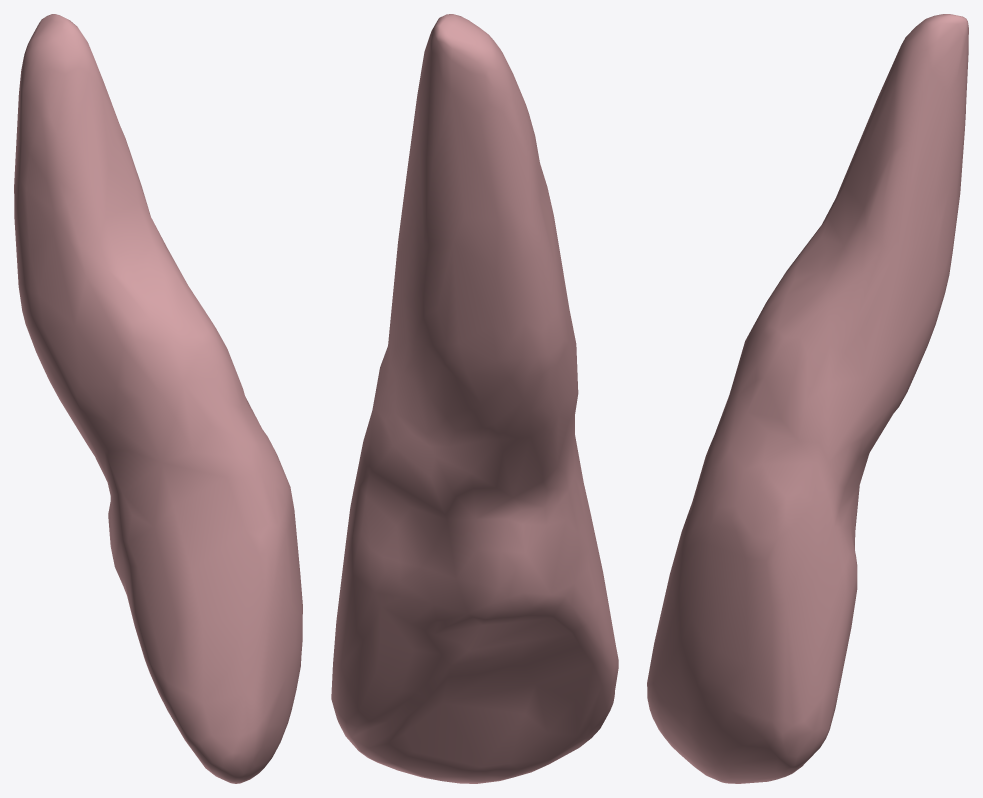
Rendered from fma55683_fj1266.glb.
The picture shows the model from 3 angles, left to right: view 1: azimuth 30°, elevation 25°; view 2: azimuth 150°, elevation 25°; view 3: azimuth 270°, elevation 25°; orthographic projection. The views are drawn at different scales.
Parts seen in each view (by area): view 1: FMA55683_FJ1266; view 2: FMA55683_FJ1266; view 3: FMA55683_FJ1266.
Boxes of the visible parts, box(x1,y1,x2,y2) form: FMA55683_FJ1266: box(14, 14, 302, 783); FMA55683_FJ1266: box(331, 14, 618, 783); FMA55683_FJ1266: box(647, 14, 968, 783).
Bounding box in the file's own units: 0.00961 × 0.0289 × 0.0117.
